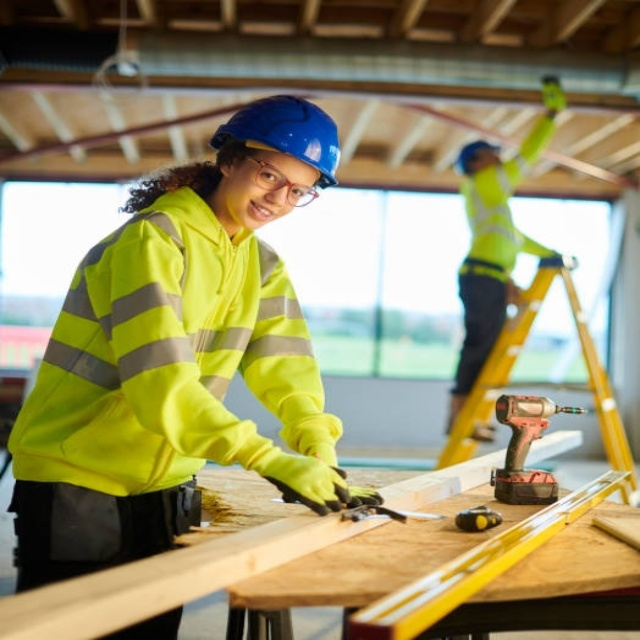Gafas: (241, 155, 318, 207)
Guantes: (243, 435, 381, 512)
Sin_mascara: (236, 196, 281, 227)
